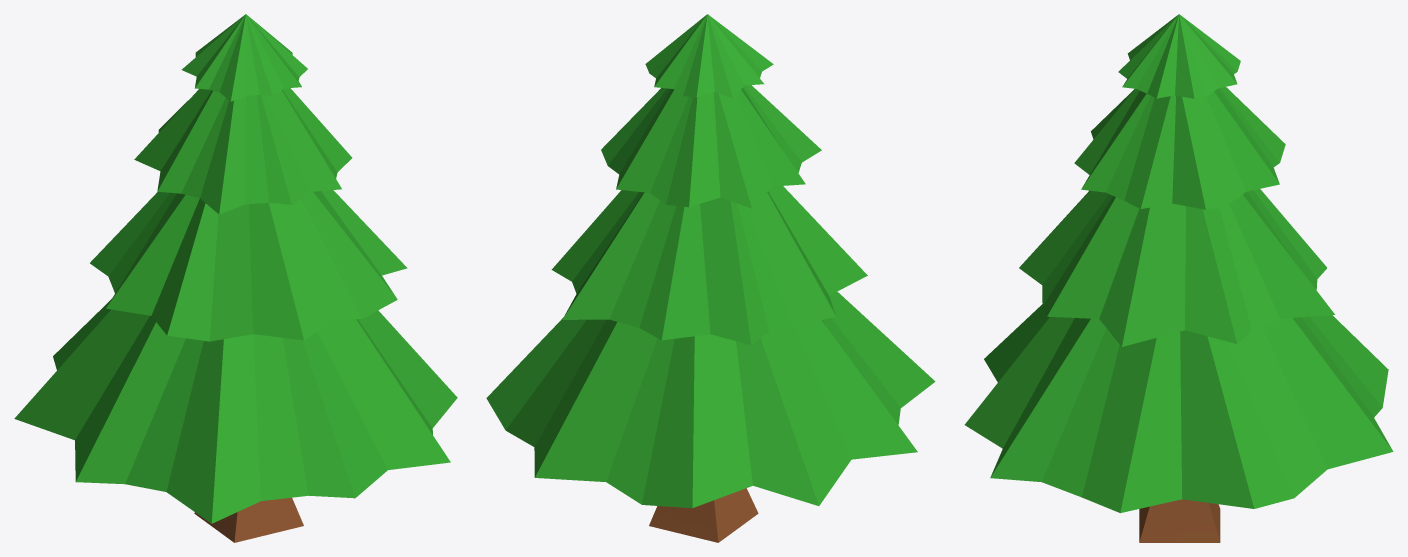
Rendered from Tree3.glb.
The picture shows the model from 3 angles, left to right: view 1: azimuth 30°, elevation 25°; view 2: azimuth 150°, elevation 25°; view 3: azimuth 270°, elevation 25°; orthographic projection.
Parts seen in each view (by area): view 1: Circle.003; view 2: Circle.003; view 3: Circle.003.
Boxes of the visible parts, bbox=[...] form: Circle.003: bbox=[14, 14, 457, 542]; Circle.003: bbox=[486, 14, 935, 542]; Circle.003: bbox=[964, 14, 1393, 542].
Size of the model in its own units: 2.09 by 2.7 by 2.06.
1 material, 1 textured.
